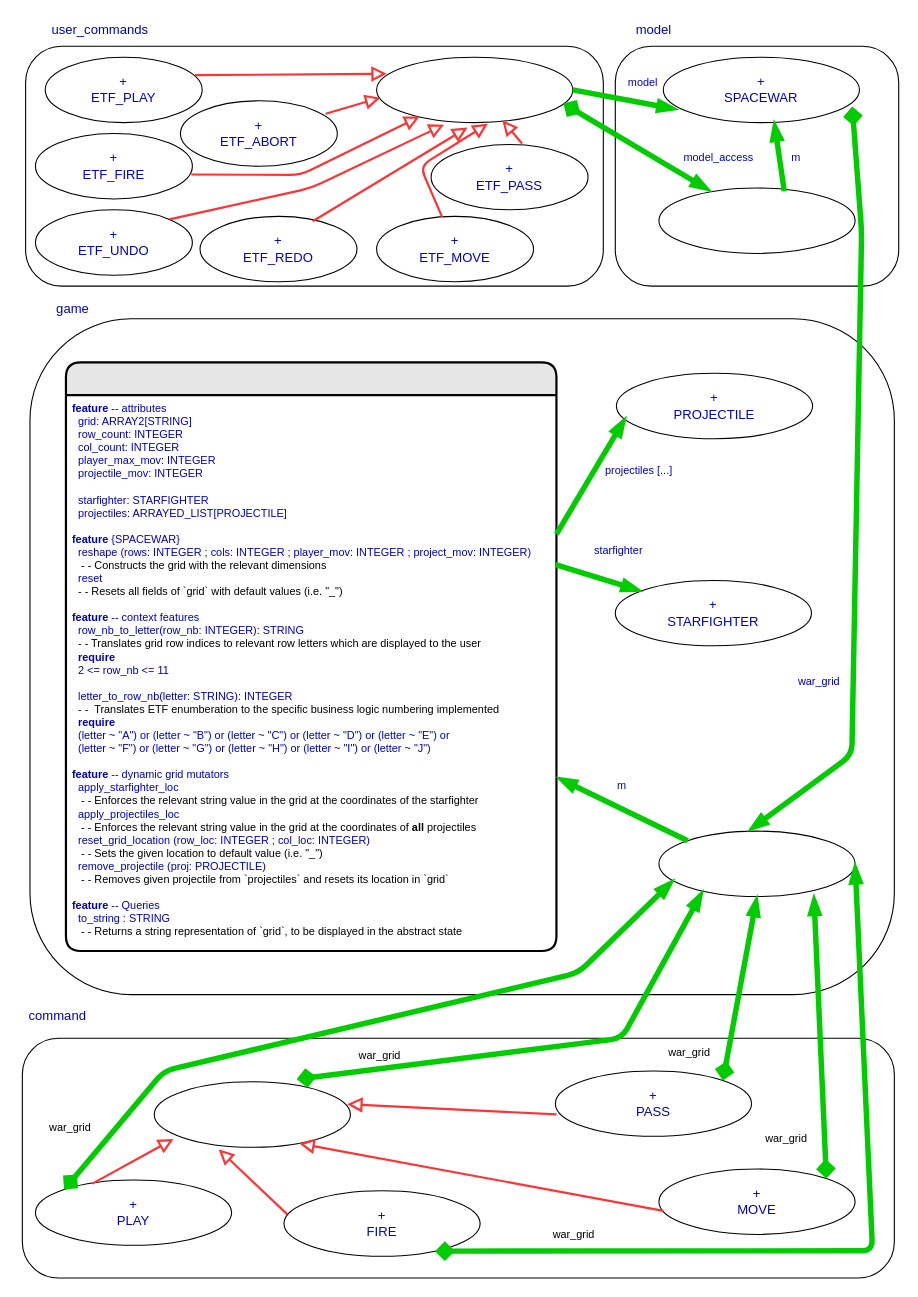
The diagram is 918 pixels wide and 1297 high, and some of its shapes have lost their labels. Here are the shapes that lost their labels. From the top down, the box of each, then its label:
(376, 56, 573, 123): * ETF_COMMAND
(658, 187, 855, 253): + SPACEWAR_ACCESS
(64, 361, 557, 952): WAR_GRID+
(658, 830, 855, 897): + WAR_GRID_ACCESS
(153, 1081, 350, 1147): * COMMAND
